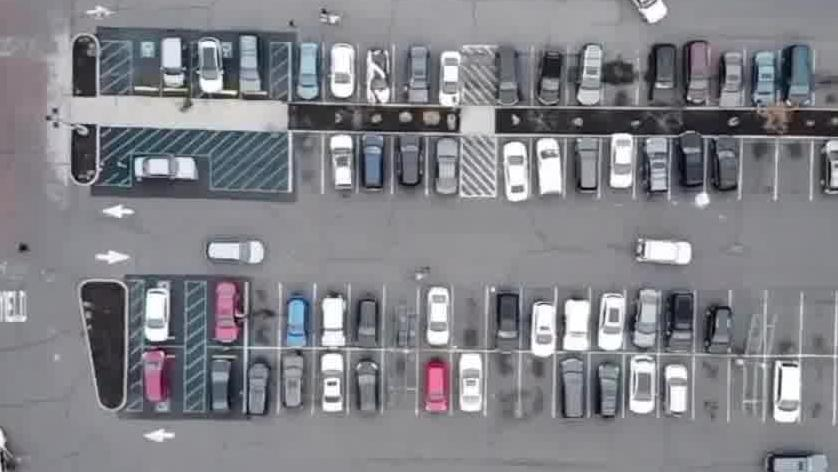car: (452, 353, 490, 420), (768, 360, 803, 430), (633, 231, 692, 271), (782, 40, 818, 105), (645, 46, 680, 111), (498, 136, 533, 201), (132, 153, 203, 185), (682, 42, 713, 111), (706, 136, 742, 195), (314, 354, 347, 418), (558, 358, 590, 424), (629, 358, 663, 420), (203, 235, 263, 270), (326, 133, 359, 196), (675, 136, 708, 199), (592, 363, 624, 426), (492, 287, 523, 352), (493, 46, 524, 110), (534, 141, 567, 201), (528, 303, 562, 361), (667, 291, 698, 354), (661, 365, 692, 428), (570, 137, 602, 198), (212, 279, 242, 344), (423, 279, 452, 344), (575, 45, 603, 112), (352, 358, 383, 418), (422, 358, 453, 418), (561, 297, 593, 355), (198, 39, 231, 95), (597, 294, 627, 355), (432, 138, 461, 200), (394, 135, 424, 194), (357, 133, 386, 194), (320, 295, 351, 352), (332, 44, 361, 104), (405, 44, 434, 104), (246, 359, 274, 421), (160, 36, 191, 92), (644, 139, 673, 198), (140, 350, 169, 409), (237, 38, 266, 96), (752, 48, 781, 106), (705, 305, 735, 361), (209, 356, 236, 418), (144, 286, 172, 345), (296, 42, 323, 103), (537, 51, 563, 114), (438, 50, 465, 110), (633, 289, 658, 353), (368, 48, 396, 105), (282, 353, 309, 412), (607, 131, 633, 192), (282, 296, 311, 349), (719, 49, 744, 110), (765, 449, 829, 472), (627, 0, 675, 28), (357, 299, 381, 352), (817, 138, 838, 196)
